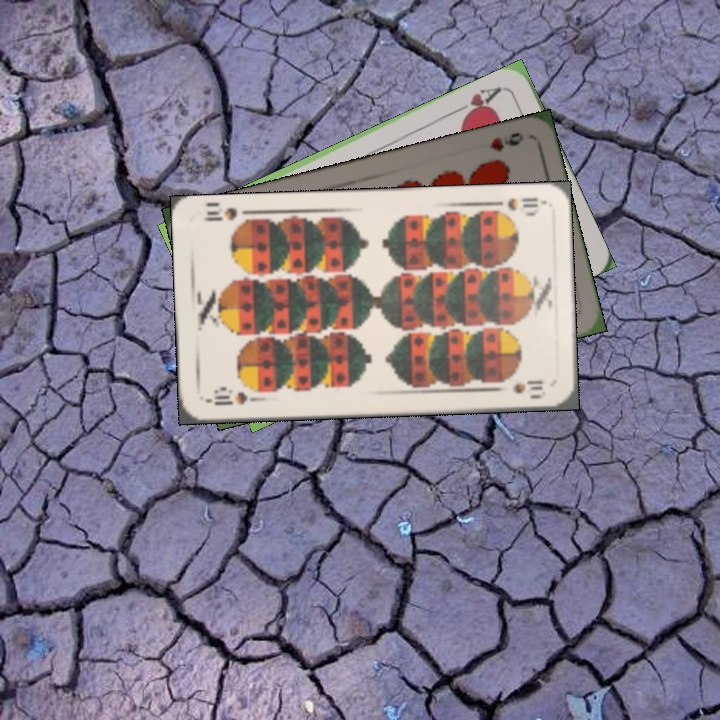H9: (485, 128, 526, 155)
HA: (451, 83, 507, 123)
S10: (486, 193, 545, 218), (203, 387, 262, 408)
